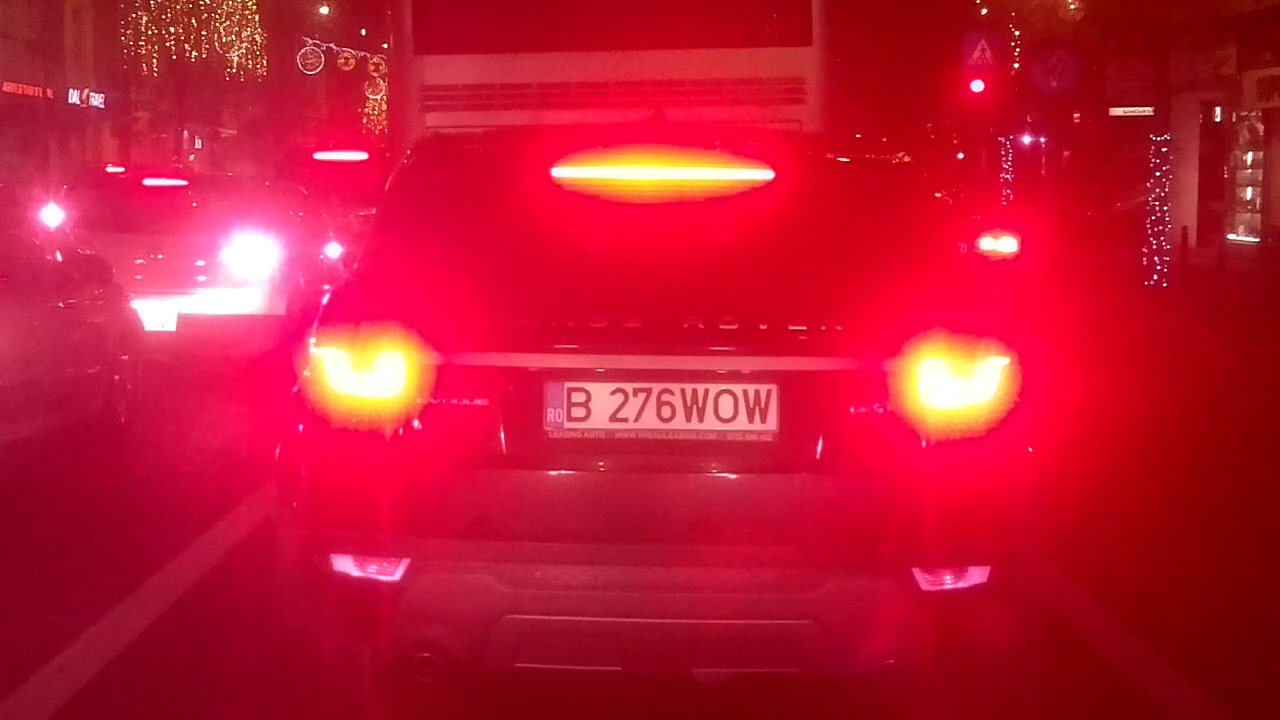license-plate: (536, 373, 788, 447)
